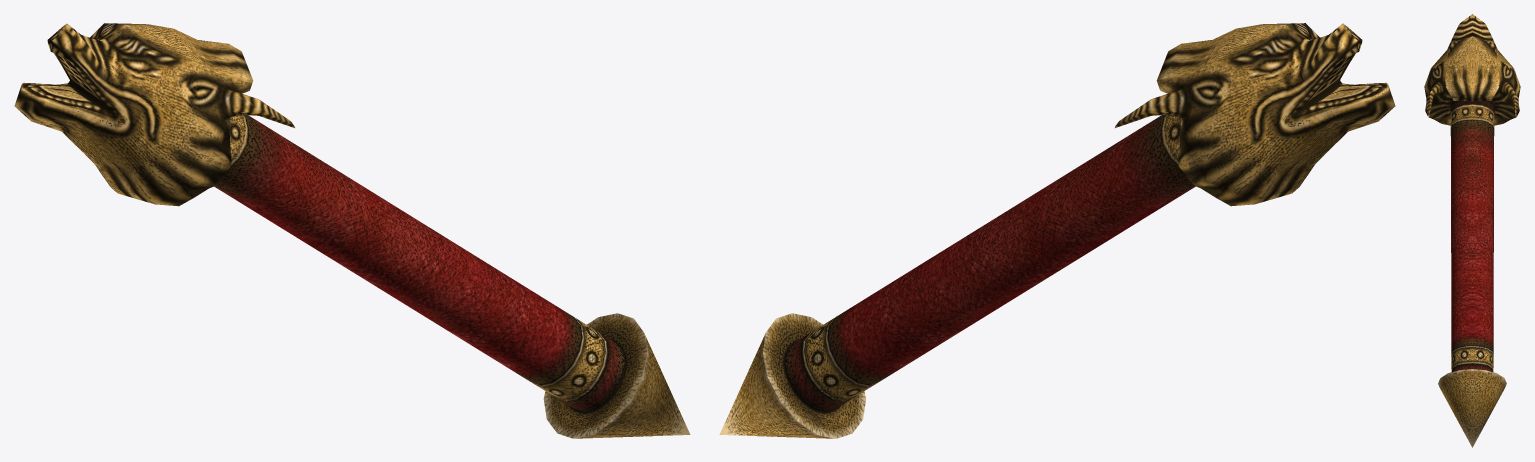
The model's file is BACK_CHIBI_DRAGON_CANE.fbx.
The picture shows the model from 3 angles, left to right: view 1: azimuth 30°, elevation 25°; view 2: azimuth 150°, elevation 25°; view 3: azimuth 270°, elevation 25°; orthographic projection. The views are drawn at different scales.
Visible parts, largest first — view 1: BACK_CHIBI_DRAGON_CANE; view 2: BACK_CHIBI_DRAGON_CANE; view 3: BACK_CHIBI_DRAGON_CANE.
Boxes of the visible parts, x1,y1,x2,y2 form: BACK_CHIBI_DRAGON_CANE: (14,23,690,438); BACK_CHIBI_DRAGON_CANE: (719,23,1395,438); BACK_CHIBI_DRAGON_CANE: (1424,14,1520,447).
Bounding box in the file's own units: 0.0495 × 0.0394 × 0.0122.
